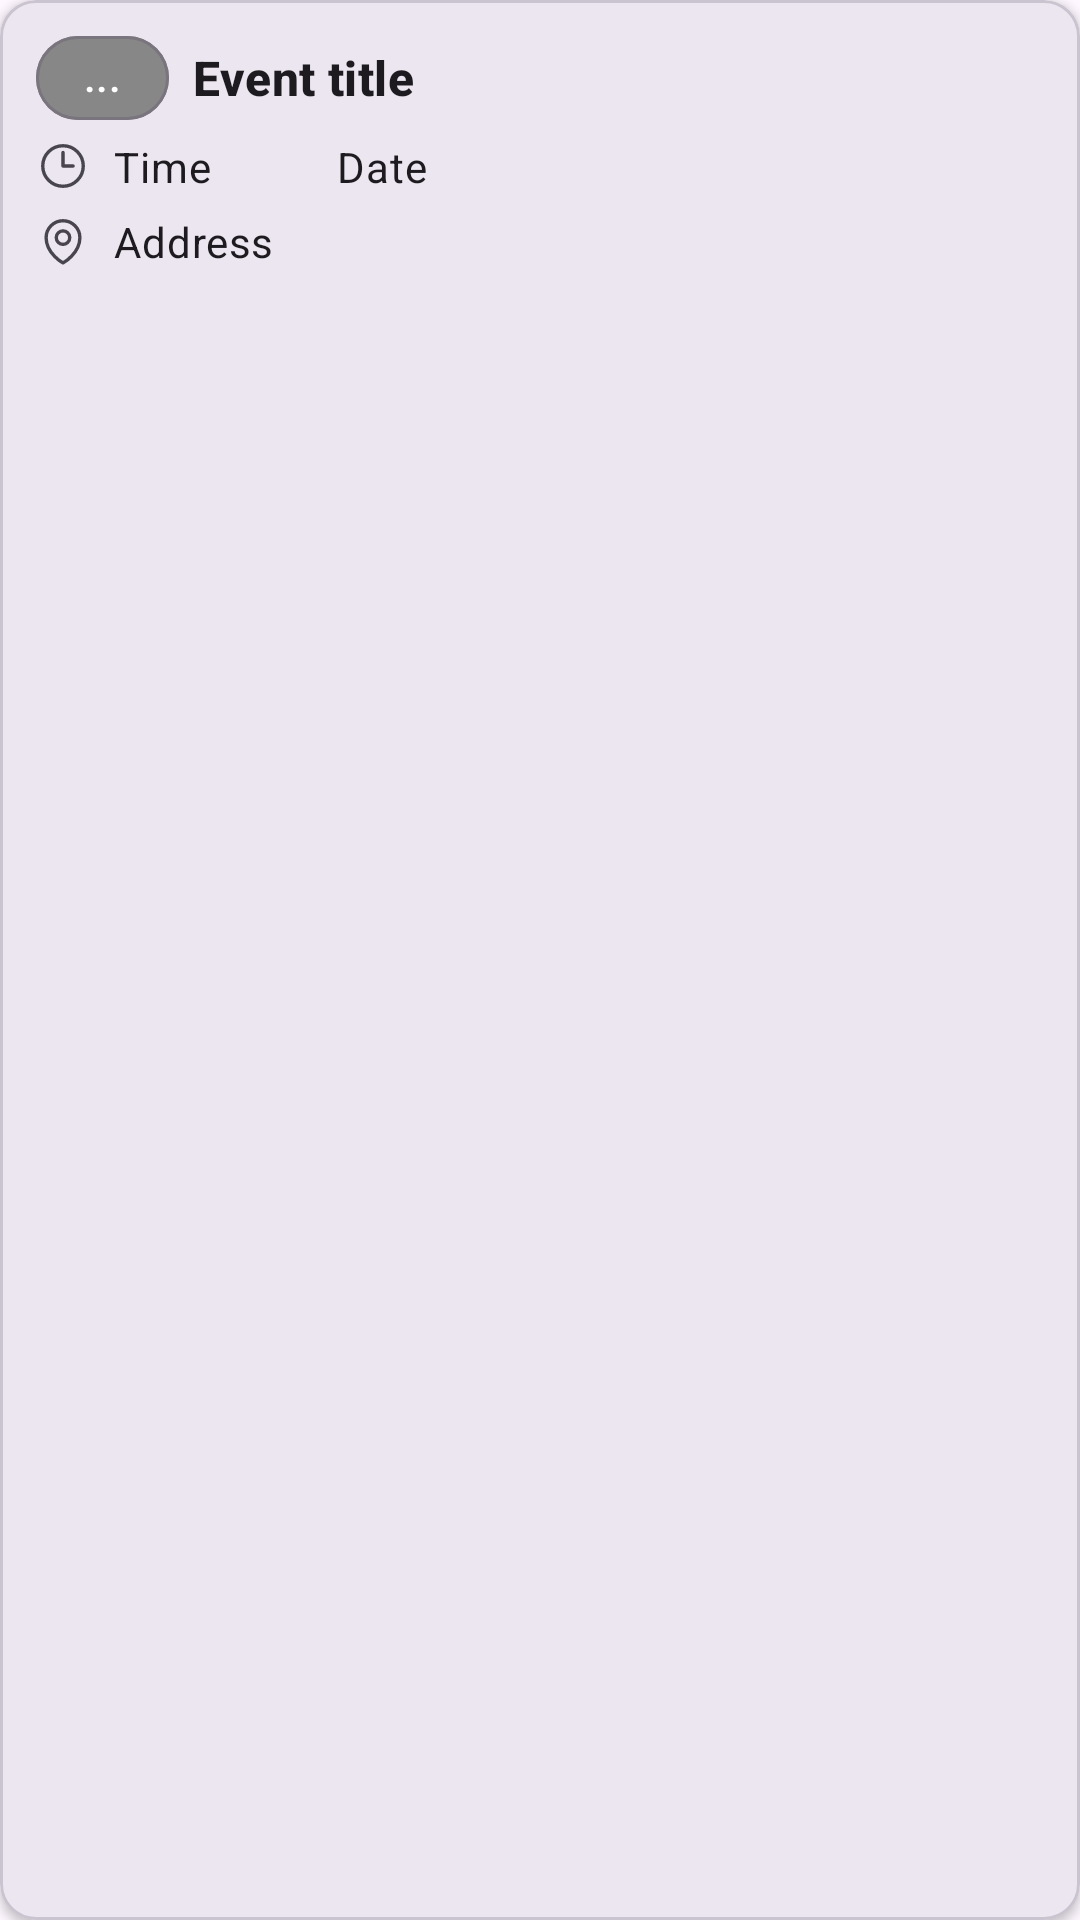

Screen size 1080w x 1920h. Icon name, then its box in pixels as (x1, y1, x2, y2):
clock: (41, 144, 85, 188)
location: (44, 219, 82, 265)
